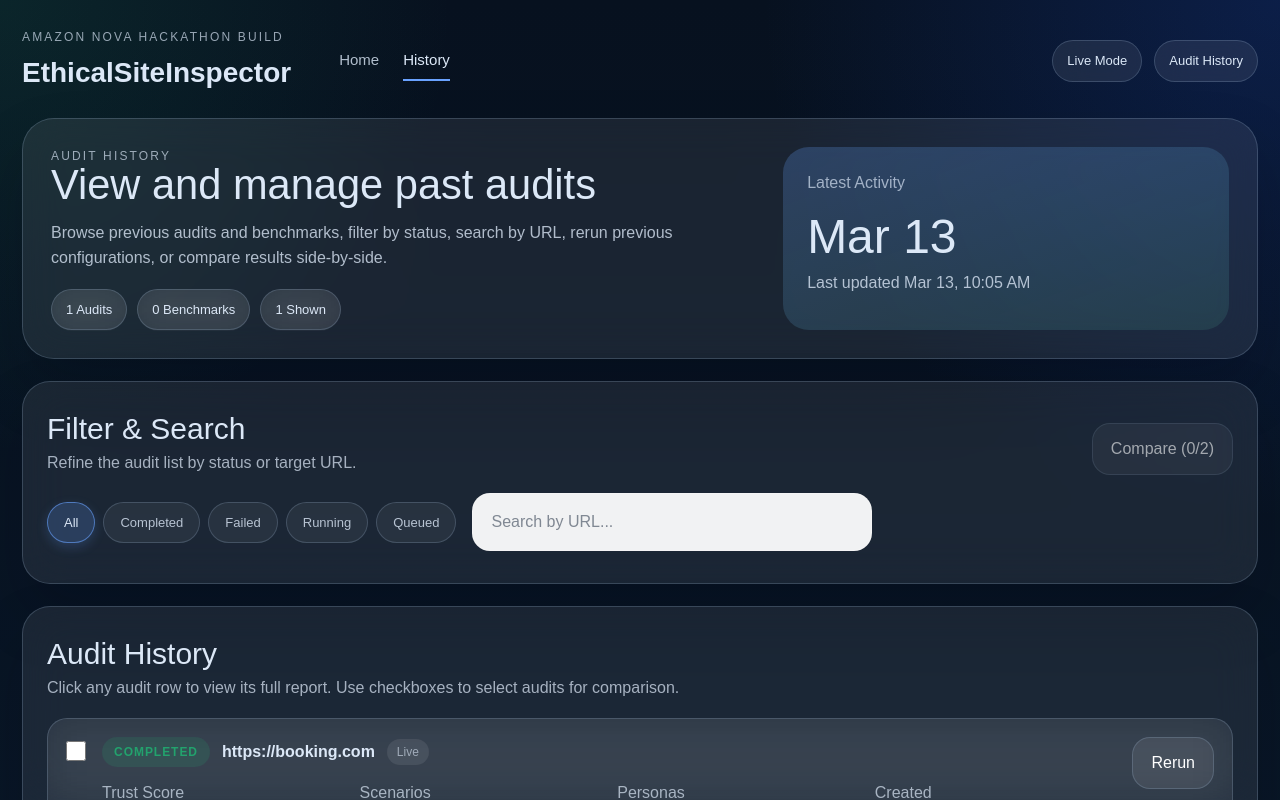
Test: HistoryPage › shows empty state when no audits match filters
Expected: the text "https://booking.com" is shown, [222, 740, 375, 764]
Type "nonexistent" into the field with placeholder "Search by URL..." at {"x": 672, "y": 522}, box [472, 493, 872, 551]
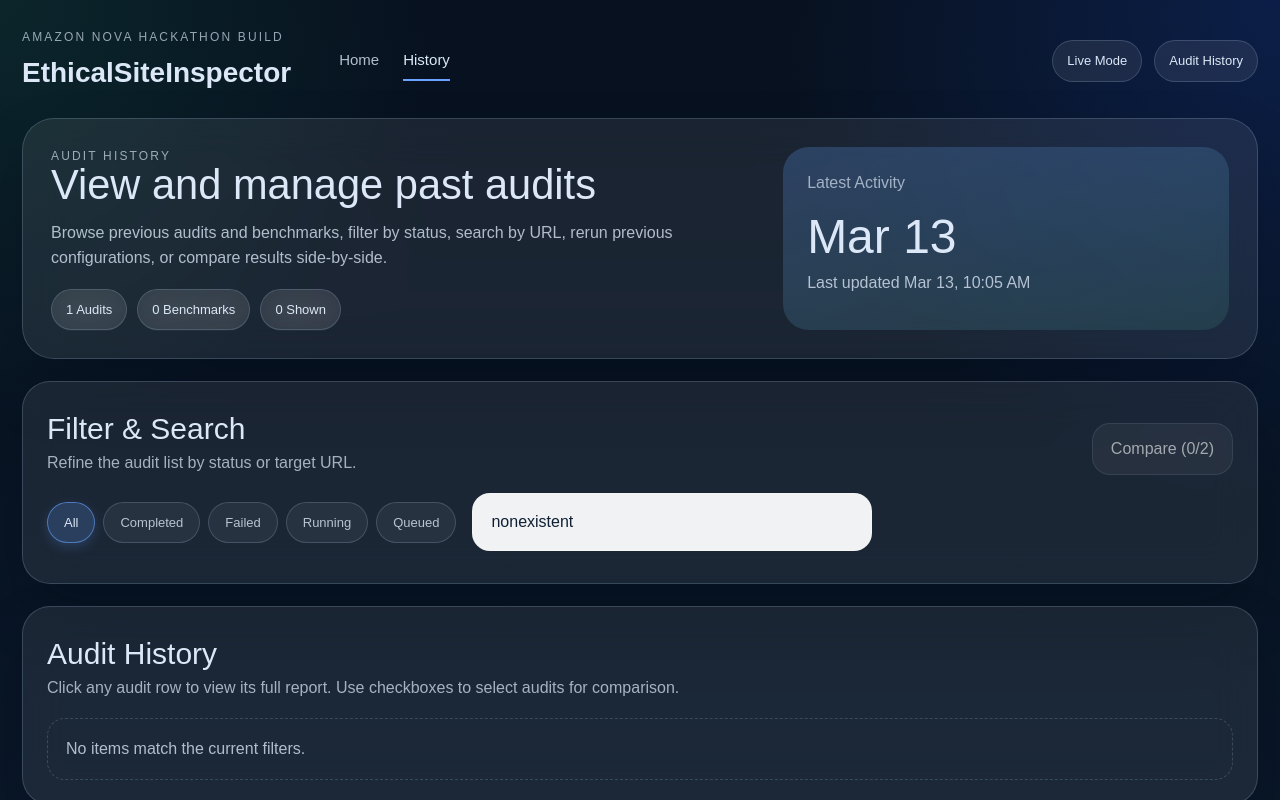
Now the text "No items match the current filters." is shown, box [47, 718, 1233, 780]
